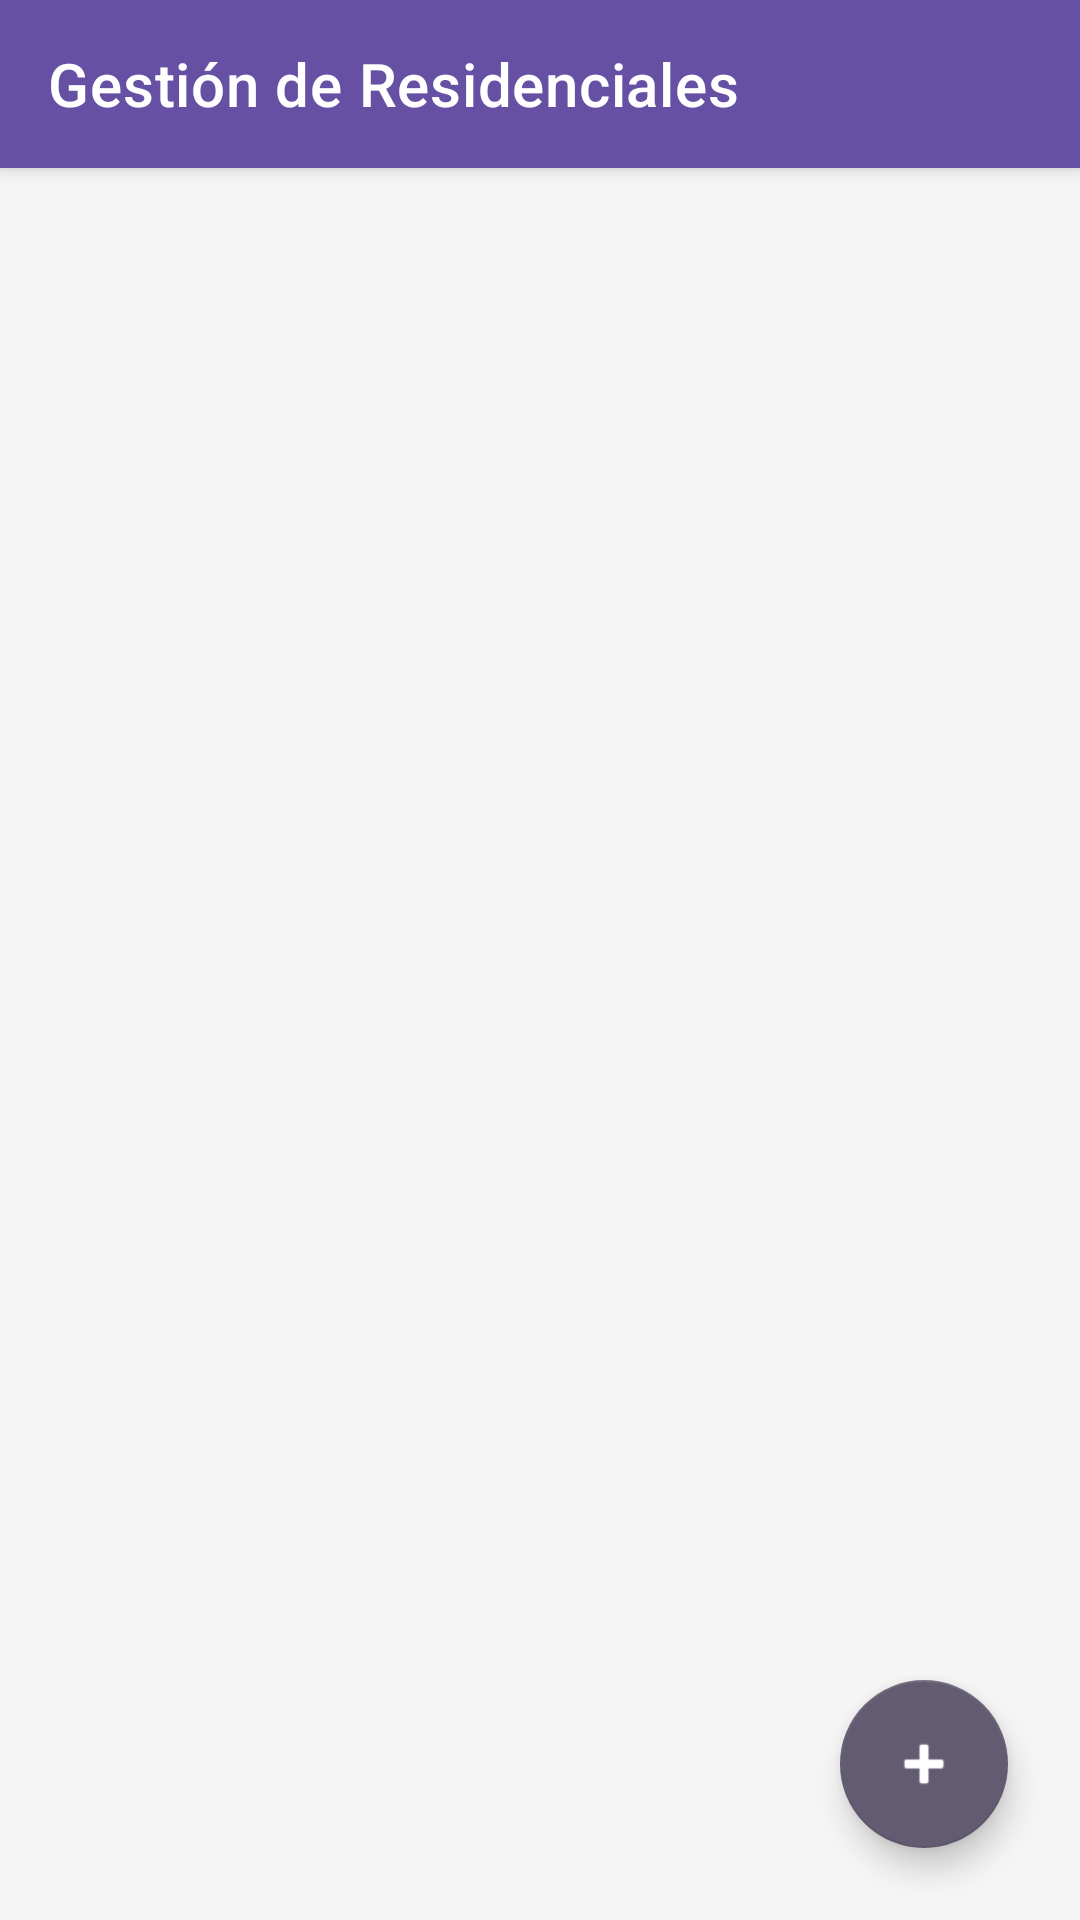

Named icons in this screenshot (1080 x 1920) and their centers, (x,y):
Agregar Residencial: (924,1764)
